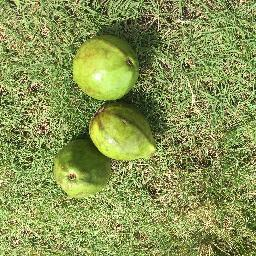Good_guava: (91, 105, 163, 165), (72, 36, 137, 102), (59, 141, 113, 205)
